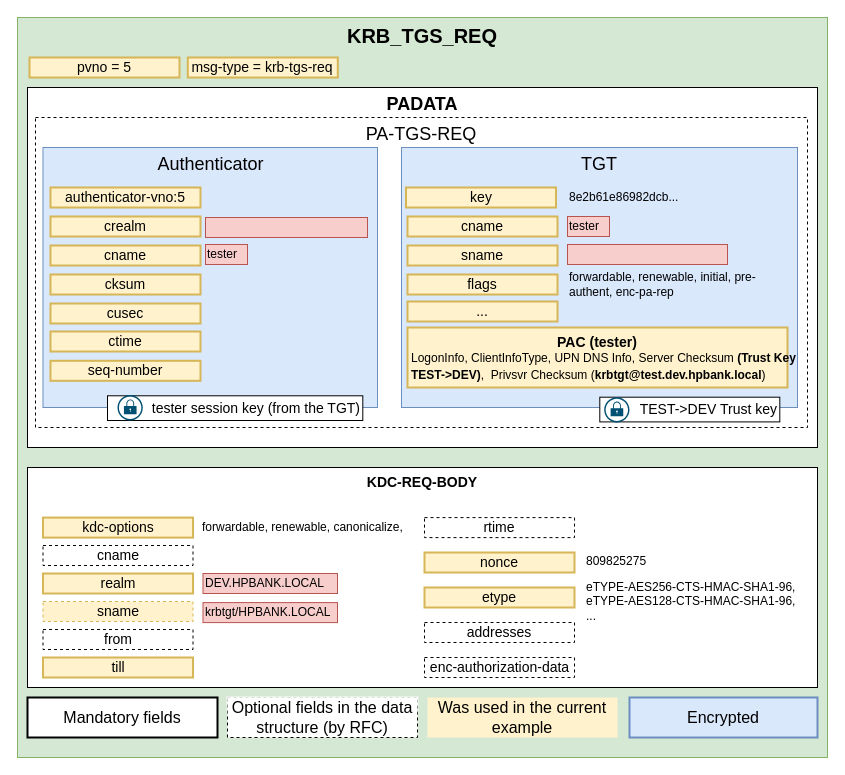
Image size: 845x775. Some labels were removed from this diagram. The centre of each missing label's shape, as x and y in pixels:
"krbtgt/DEV.HPBANK.LOCAL" belongs at (x=647, y=254).
"TEST.DEV.HPBANK.LOCAL" belongs at (x=286, y=227).
